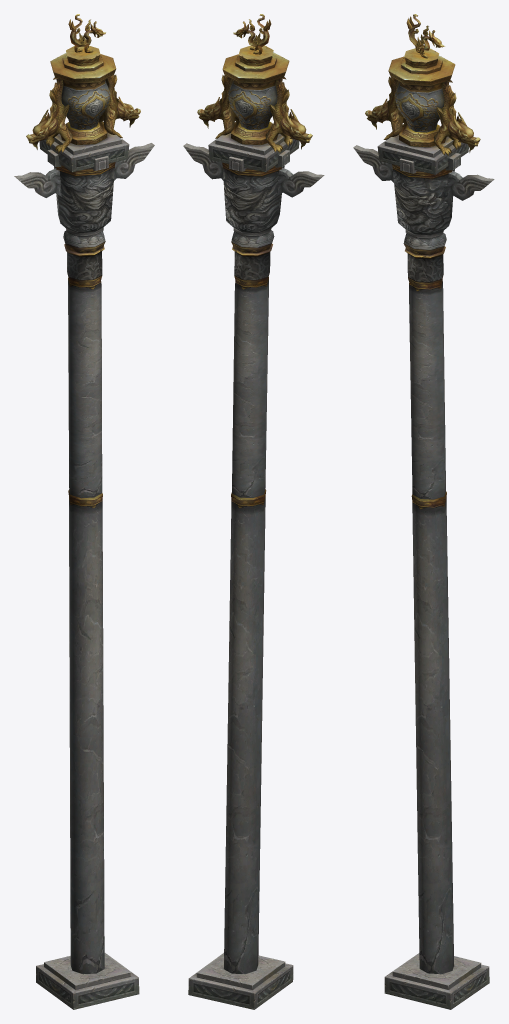
Rendered from StuLight.FBX.
3 renders of one model, left to right at view 1: azimuth 30°, elevation 25°; view 2: azimuth 150°, elevation 25°; view 3: azimuth 330°, elevation 25°, orthographic.
Visible parts, largest first — view 1: StuLight; view 2: StuLight; view 3: StuLight.
Part boxes in pixels (x1=…): StuLight: x1=14, y1=14, x2=154, y2=1009; StuLight: x1=183, y1=14, x2=324, y2=1009; StuLight: x1=353, y1=14, x2=494, y2=1009.
Size of the model in its own units: 355 by 188 by 2408.
